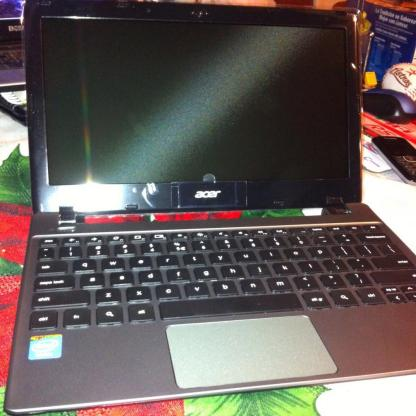board: (1, 1, 415, 415)
